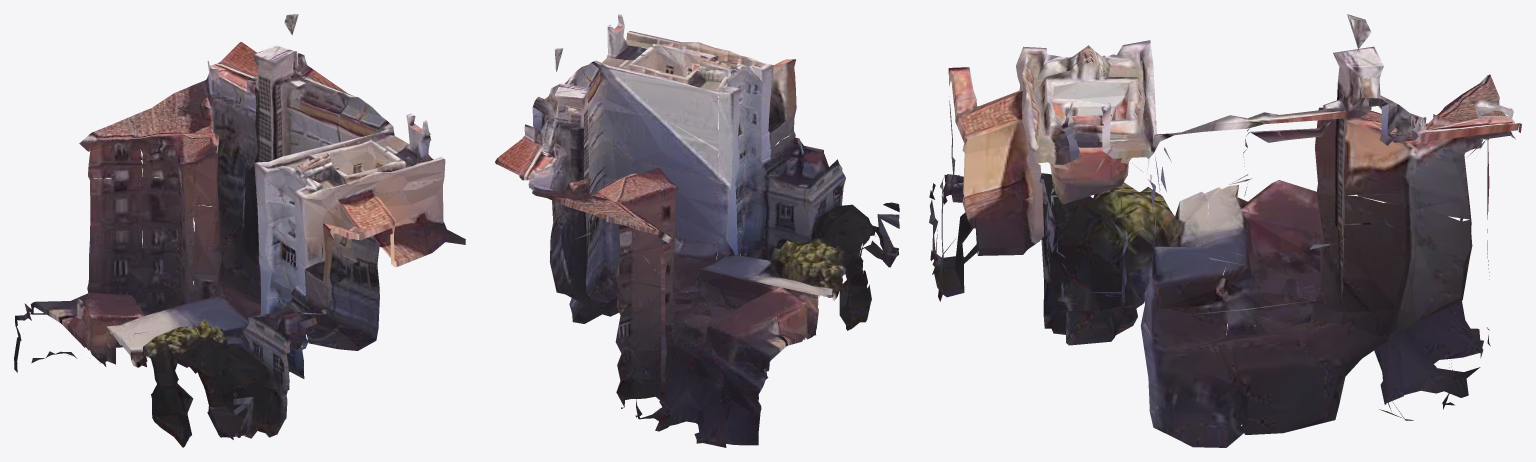
3 renders of one model, left to right at view 1: azimuth 30°, elevation 25°; view 2: azimuth 150°, elevation 25°; view 3: azimuth 270°, elevation 25°, orthographic. The views are drawn at different scales.
Visible parts, largest first — view 1: Mesh_0; view 2: Mesh_0; view 3: Mesh_0.
Boxes of the visible parts, x1,y1,x2,y2 form: Mesh_0: (14,14,465,447); Mesh_0: (495,14,899,447); Mesh_0: (929,14,1521,447).
Bounding box in the file's own units: 33.2 × 36.73 × 41.53.
1 material, 1 textured.
